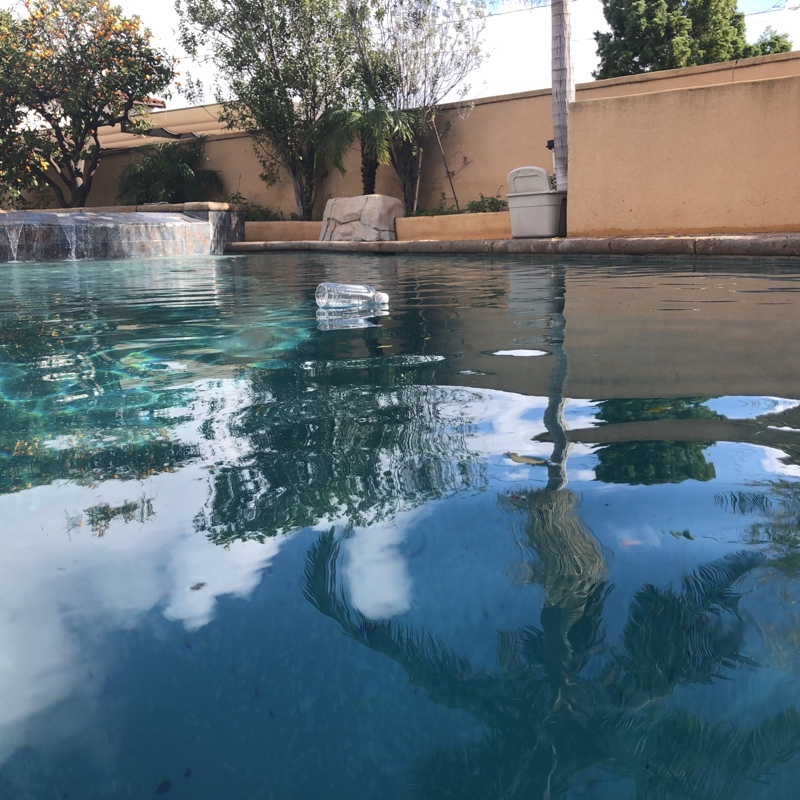Plastic Bottle: (312, 283, 389, 312)
